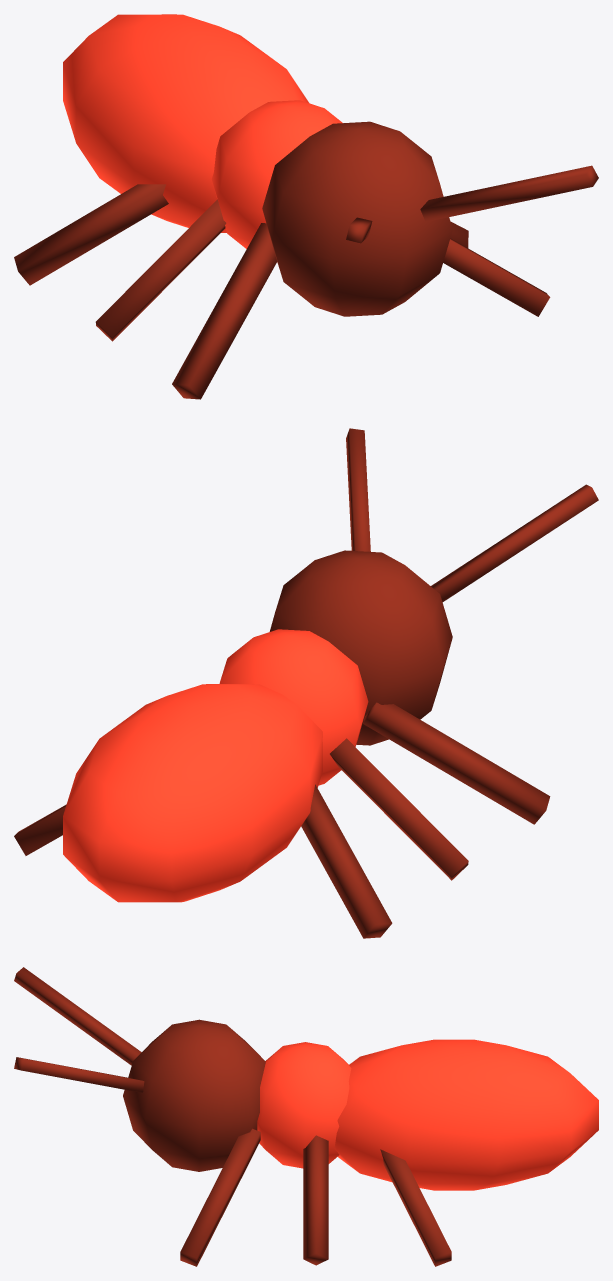
The model's file is termite.glb.
3 views of the same model, one above another, from view 1: azimuth 30°, elevation 25°; view 2: azimuth 150°, elevation 25°; view 3: azimuth 270°, elevation 25° (orthographic). The views are drawn at different scales.
Parts seen in each view (by area): view 1: Termite; view 2: Termite; view 3: Termite.
Part boxes in pixels (x1,y1,x2,y2): Termite: [14, 14, 598, 399]; Termite: [14, 428, 598, 938]; Termite: [14, 967, 598, 1266].
Bounding box in the file's own units: 0.1578 × 0.098 × 0.2755.
